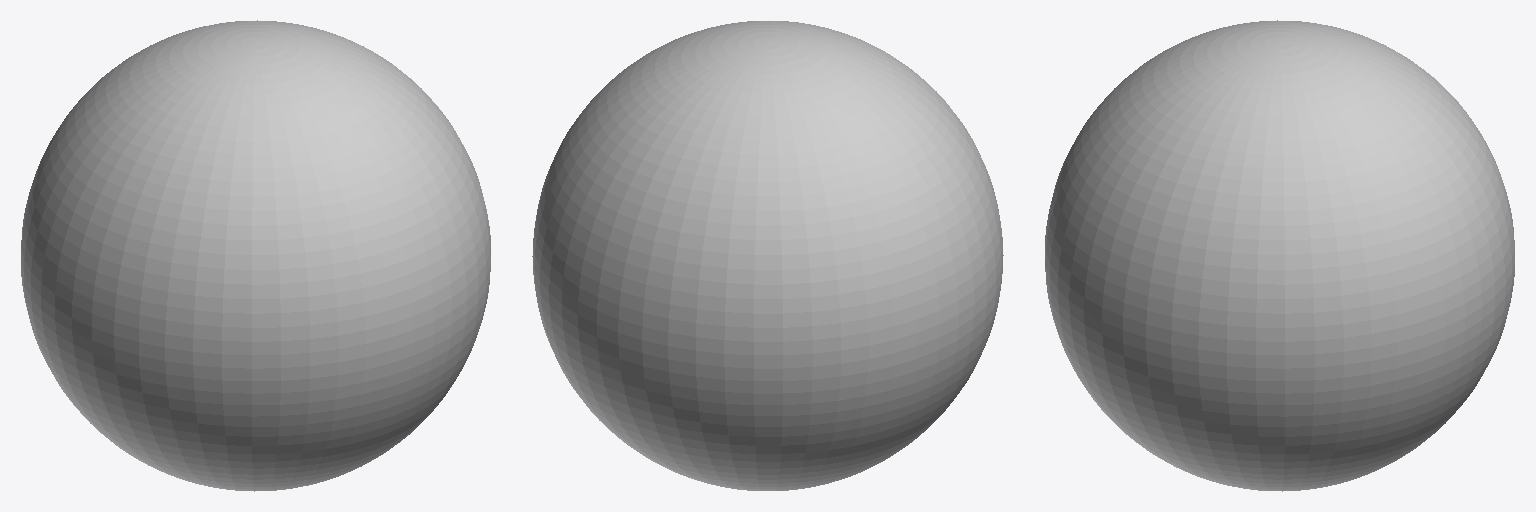
The model's file is Jupiter.obj.
3 views of the same model, side by side, from view 1: azimuth 30°, elevation 25°; view 2: azimuth 150°, elevation 25°; view 3: azimuth 270°, elevation 25° (orthographic).
Visible parts, largest first — view 1: pSphere6; view 2: pSphere6; view 3: pSphere6.
Boxes of the visible parts, x1=… form: pSphere6: x1=21, y1=20, x2=490, y2=491; pSphere6: x1=532, y1=21, x2=1003, y2=490; pSphere6: x1=1045, y1=20, x2=1514, y2=491.
Size of the model in its own units: 6.72 by 6.72 by 6.71.